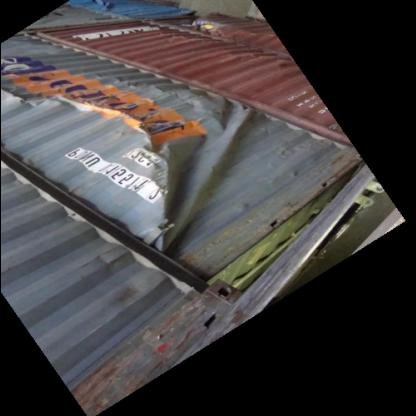Damage: (132, 108, 242, 258), (51, 49, 233, 115), (6, 78, 130, 146)
